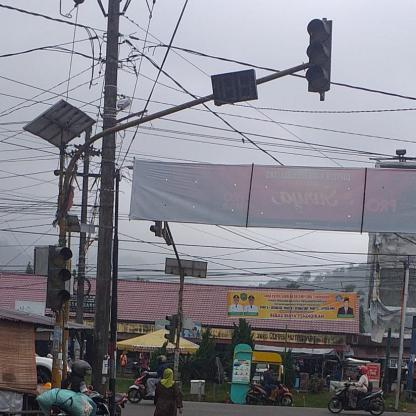green: (308, 20, 330, 91), (47, 245, 69, 309)
